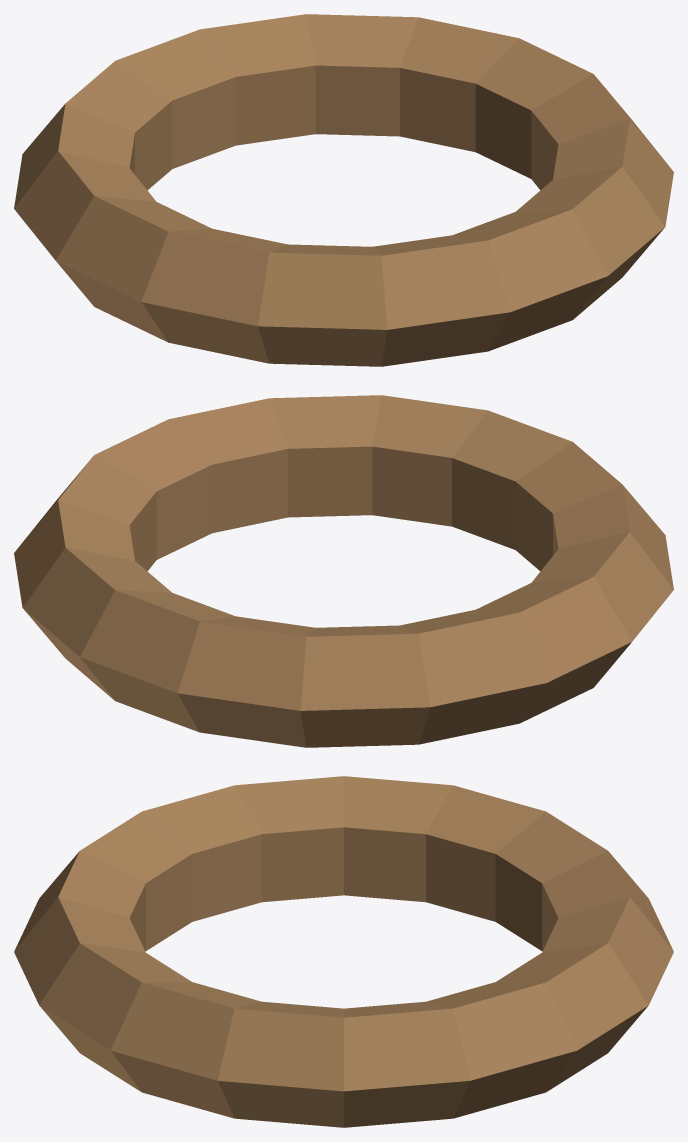
File: set_boat_pulley.glb
3 renders of one model, top to bottom at view 1: azimuth 30°, elevation 25°; view 2: azimuth 150°, elevation 25°; view 3: azimuth 270°, elevation 25°, orthographic.
Visible parts, largest first — view 1: set_boat_pulley; view 2: set_boat_pulley; view 3: set_boat_pulley.
Boxes of the visible parts, x1,y1,x2,y2 form: set_boat_pulley: (14, 14, 673, 366); set_boat_pulley: (14, 395, 673, 747); set_boat_pulley: (14, 776, 673, 1127).
Size of the model in its own units: 0.248 by 0.0457 by 0.248.
